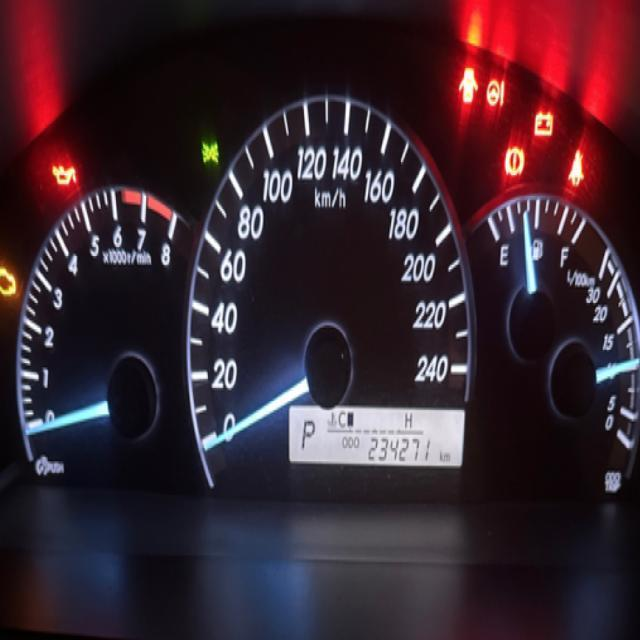Electronic Power Steering: (485, 68, 508, 114)
